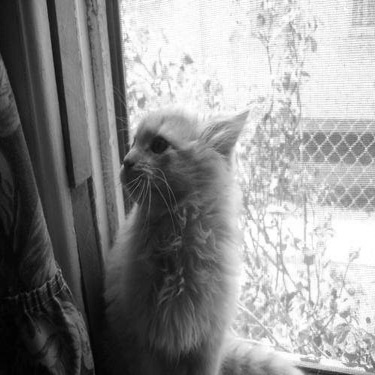cat: (99, 102, 308, 371)
